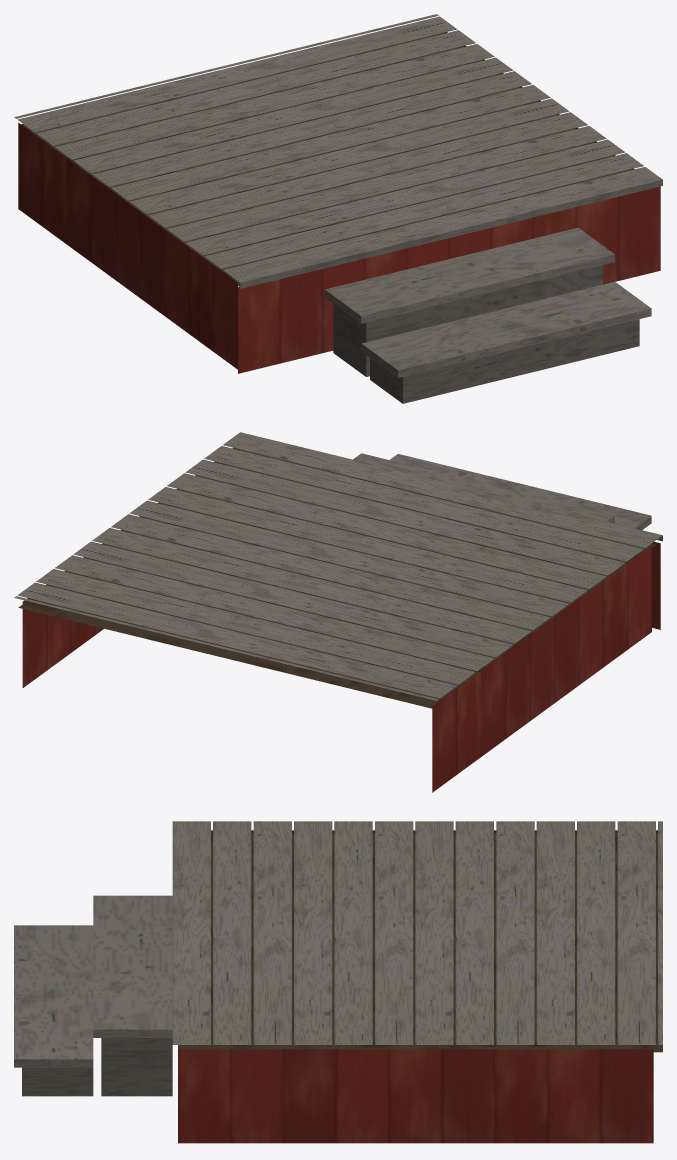
Rendered from red-wooden-house-porch-deck.glb.
3 views of the same model, one above another, from view 1: azimuth 30°, elevation 25°; view 2: azimuth 150°, elevation 25°; view 3: azimuth 270°, elevation 25° (orthographic). The views are drawn at different scales.
Visible parts, largest first — view 1: porch; view 2: porch; view 3: porch.
Boxes of the visible parts, x1,y1,x2,y2 form: porch: (14, 14, 662, 403); porch: (14, 432, 662, 792); porch: (14, 821, 662, 1143).
Bounding box in the file's own units: 2 × 0.4199 × 2.45.
1 material, 1 textured.
